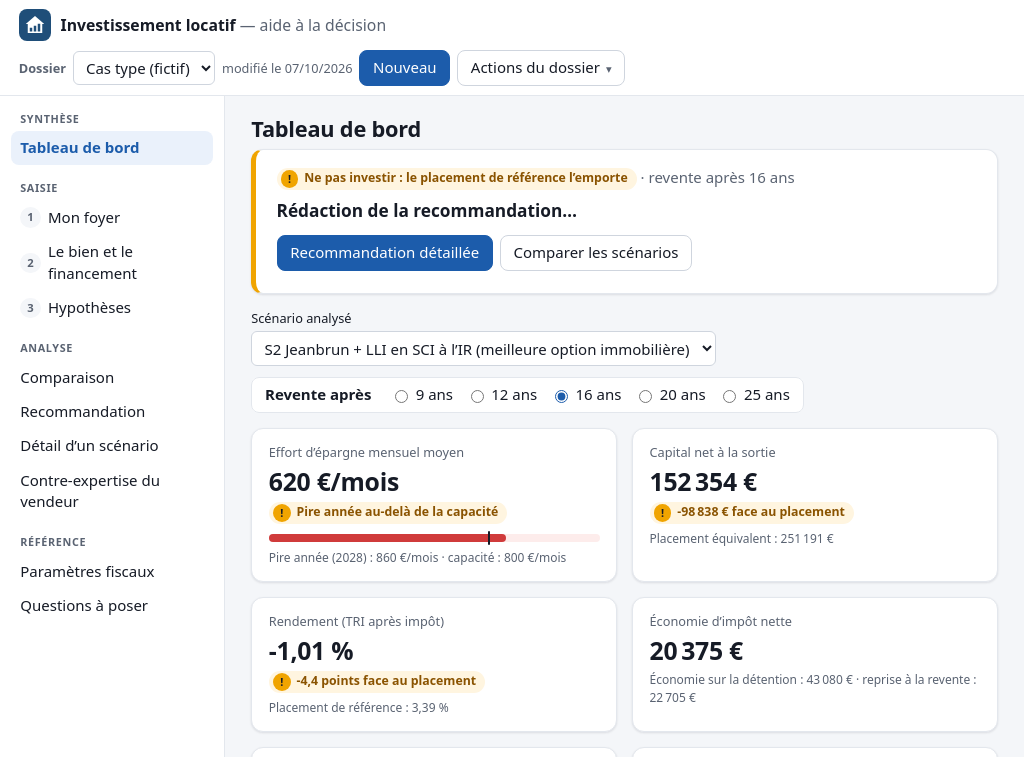
Test case: application › premier lancement : le jeu d’essai fictif est préchargé et ses résultats sont calculés
Click the link "Mon foyer" at (84, 217), box left=48, top=207, right=120, bottom=227
(page scrolled)
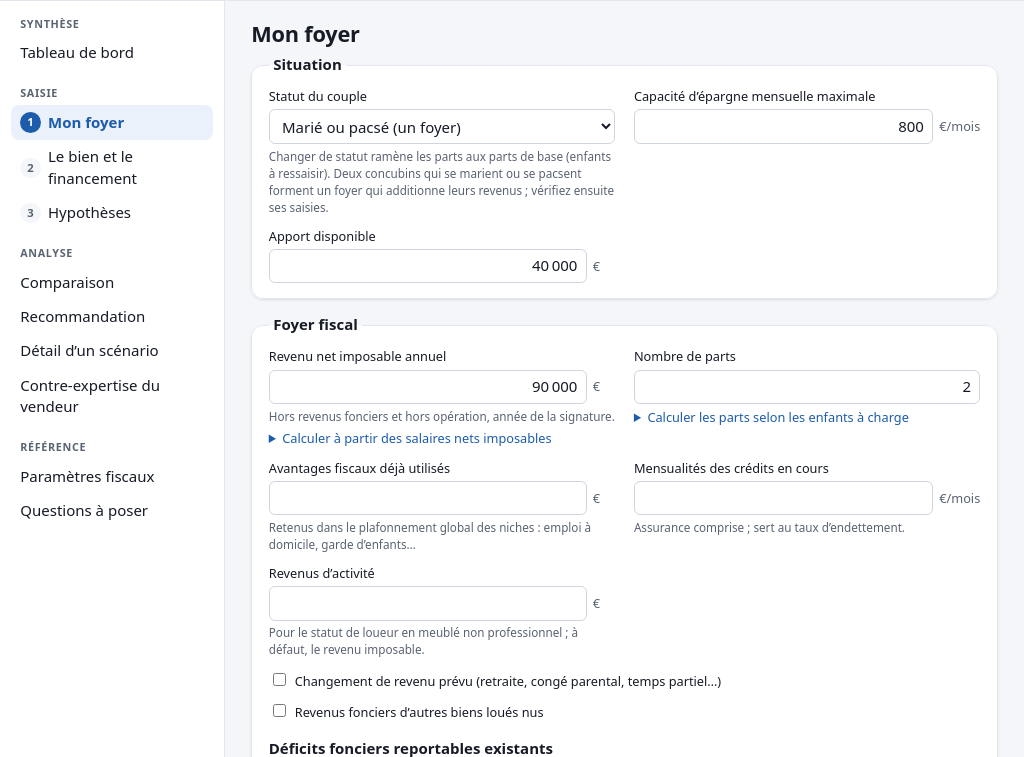
Click the link "Comparaison" at (67, 282), box left=20, top=272, right=114, bottom=292
(page scrolled)
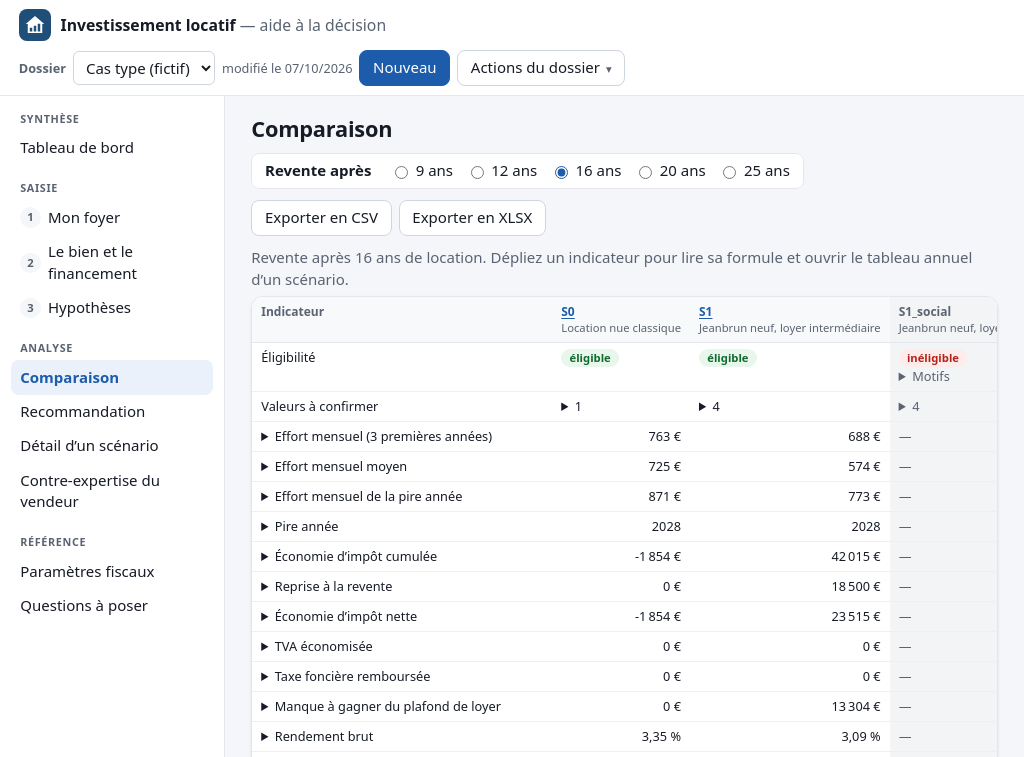
Expected: the button "Exporter en XLSX" is shown, left=399, top=200, right=546, bottom=236
